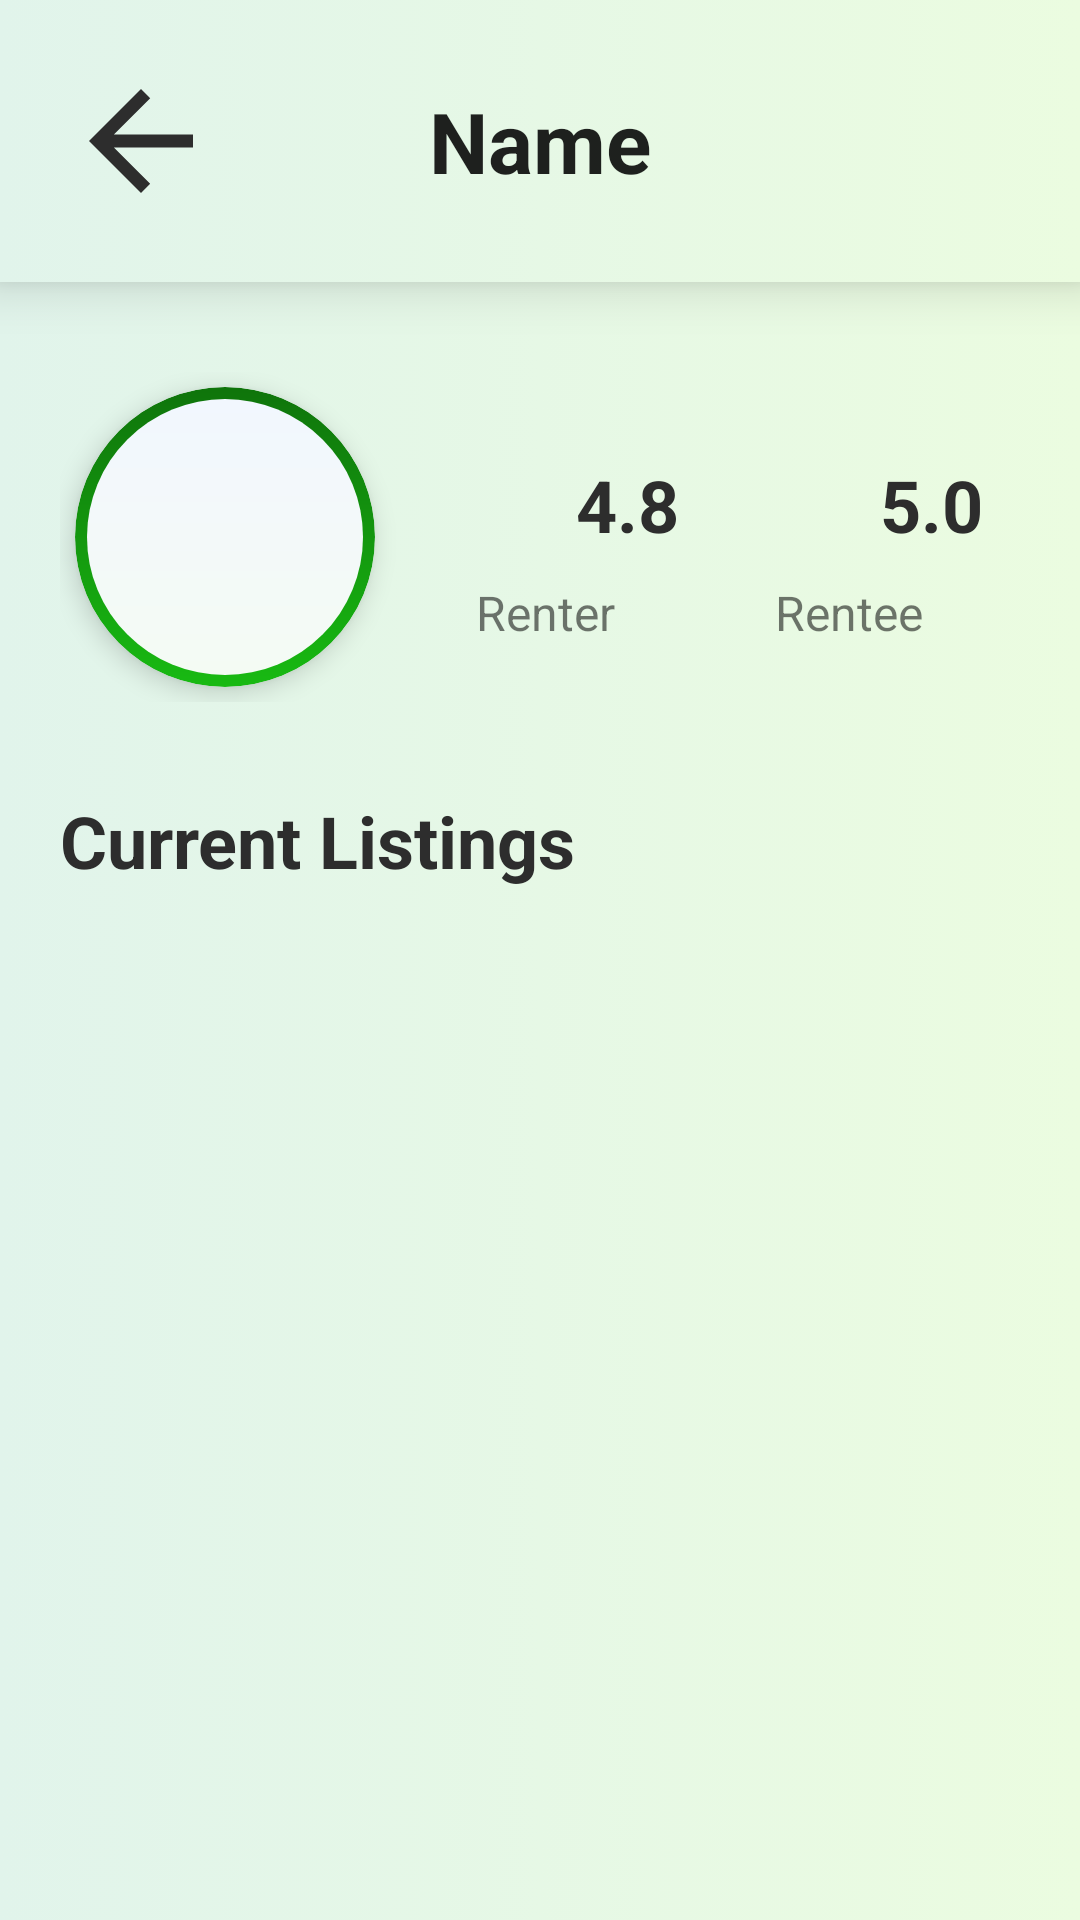

Point at icon controls on the screen. Image size 1080×1920, points as (x=x, y=y).
back: (x=141, y=141)
